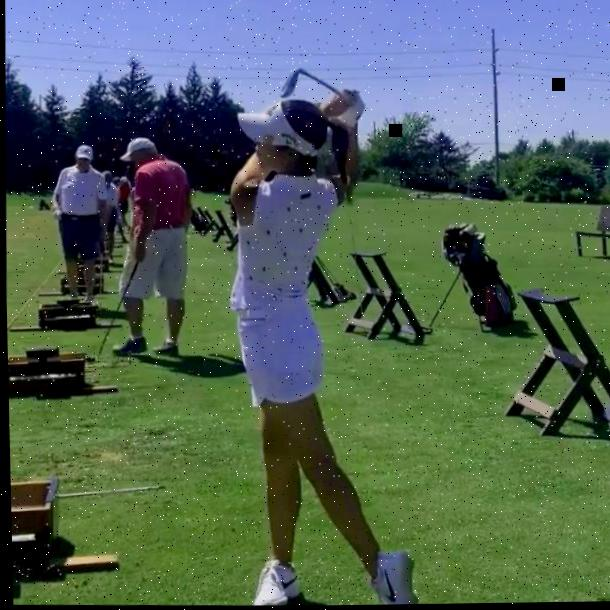ClubHead: (278, 68, 298, 98)
